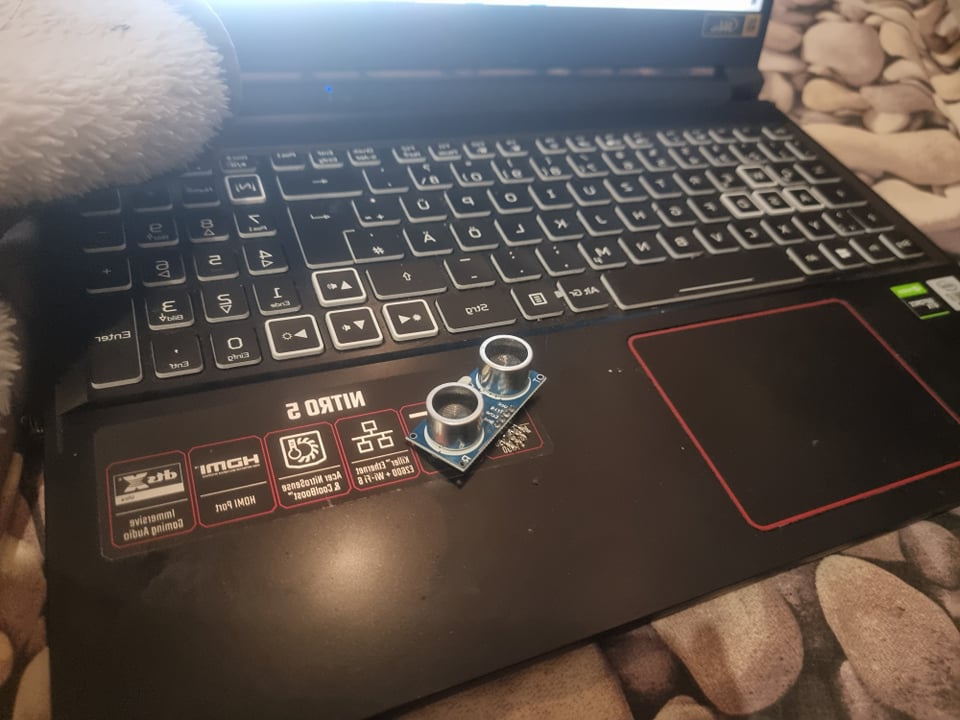SENSOR: (406, 332, 548, 474)
